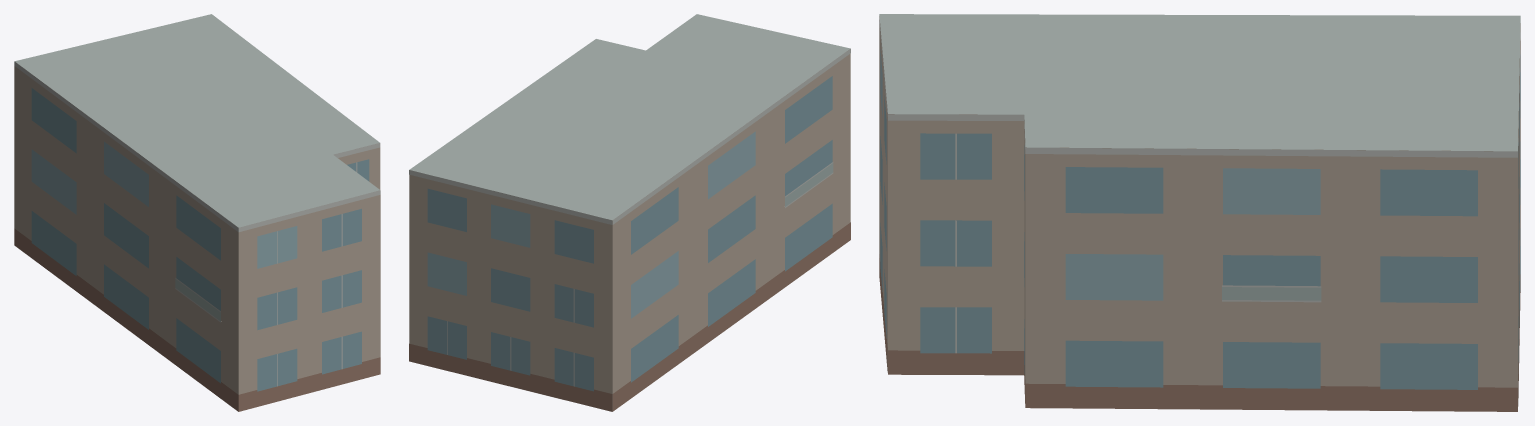
The model's file is survey-upis-32837606.glb.
The picture shows the model from 3 angles, left to right: view 1: azimuth 30°, elevation 25°; view 2: azimuth 150°, elevation 25°; view 3: azimuth 270°, elevation 25°; orthographic projection. The views are drawn at different scales.
Visible parts, largest first — view 1: survey-upis-32837606.tmp; view 2: survey-upis-32837606.tmp; view 3: survey-upis-32837606.tmp.
Part boxes in pixels (<box>): survey-upis-32837606.tmp: <box>14,14,380,411</box>; survey-upis-32837606.tmp: <box>409,14,850,411</box>; survey-upis-32837606.tmp: <box>879,14,1520,411</box>.
Bounding box in the file's own units: 11.11 × 9.8 × 21.87.
